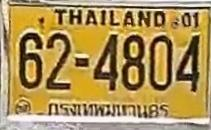0: (149, 34, 172, 90)
2: (45, 32, 70, 90)
4: (92, 32, 117, 90), (176, 34, 200, 91)
6: (18, 32, 42, 88)
8: (121, 34, 144, 89)
BKK: (47, 97, 170, 121)
